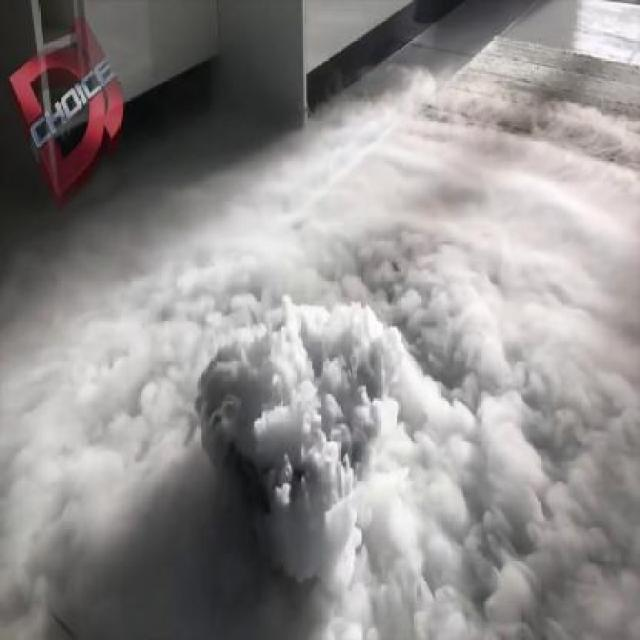smoke: (6, 152, 620, 640)
